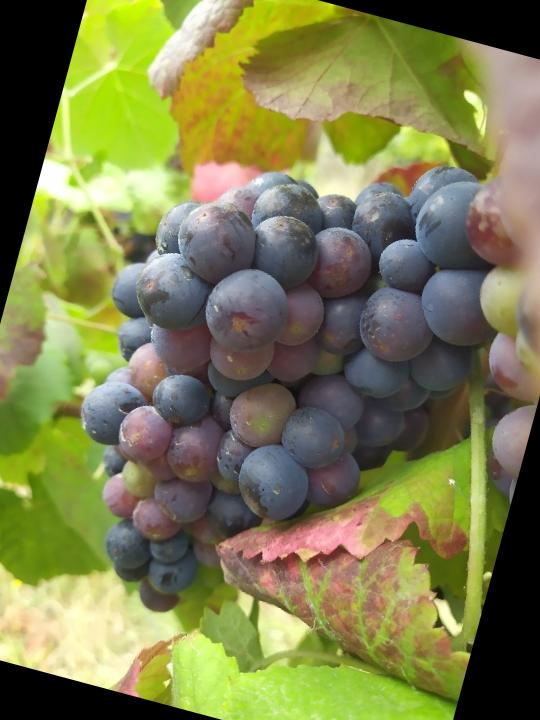grape: (25, 89, 535, 679)
